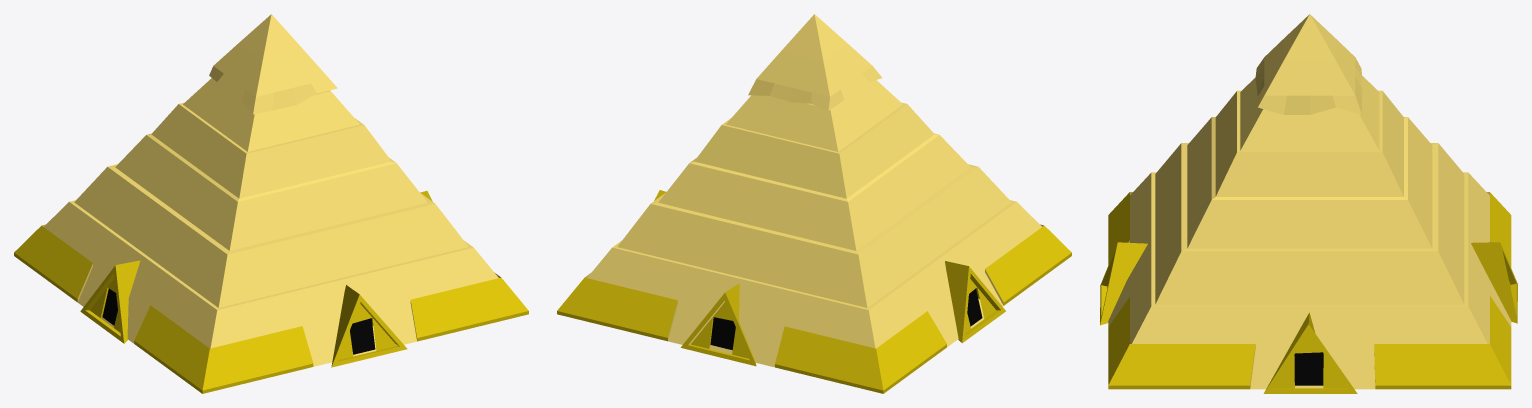
File: basePyramid.fbx
The picture shows the model from 3 angles, left to right: view 1: azimuth 30°, elevation 25°; view 2: azimuth 150°, elevation 25°; view 3: azimuth 270°, elevation 25°; orthographic projection. The views are drawn at different scales.
Visible parts, largest first — view 1: Cube.005; view 2: Cube.005; view 3: Cube.005.
Boxes of the visible parts, x1=… form: Cube.005: x1=14, y1=14, x2=528, y2=393; Cube.005: x1=557, y1=14, x2=1071, y2=393; Cube.005: x1=1100, y1=14, x2=1517, y2=393.
Size of the model in its own units: 1038 by 797 by 1035.
